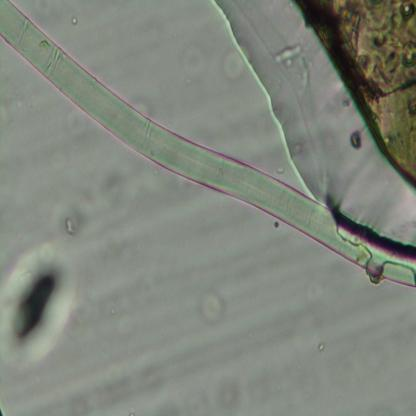Air bubble: (211, 0, 325, 176)
Background material: (319, 0, 416, 184), (0, 217, 76, 365), (189, 270, 230, 327), (349, 122, 369, 153), (316, 337, 328, 354)
Microfibre: (0, 0, 415, 290)
